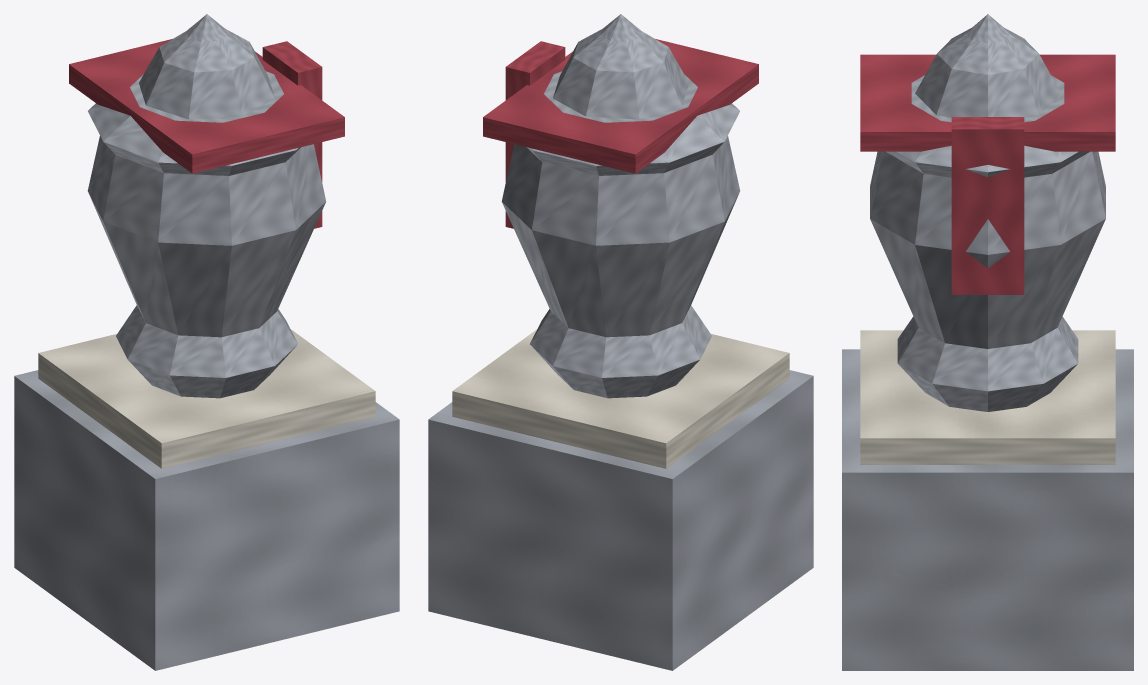
File: vampire-crypt-and-gothic-cathedral-urn-236e4c40__23054.glb
3 renders of one model, left to right at view 1: azimuth 30°, elevation 25°; view 2: azimuth 150°, elevation 25°; view 3: azimuth 270°, elevation 25°, orthographic. The views are drawn at different scales.
Parts seen in each view (by area): view 1: urn; view 2: urn; view 3: urn.
Part boxes in pixels (x1,y1,x2,y2): urn: (14,14,399,670); urn: (428,14,813,670); urn: (842,14,1133,670).
Size of the model in its own units: 0.7999 by 1.8 by 0.7999.
Materials: 3 (3 with a texture image).
